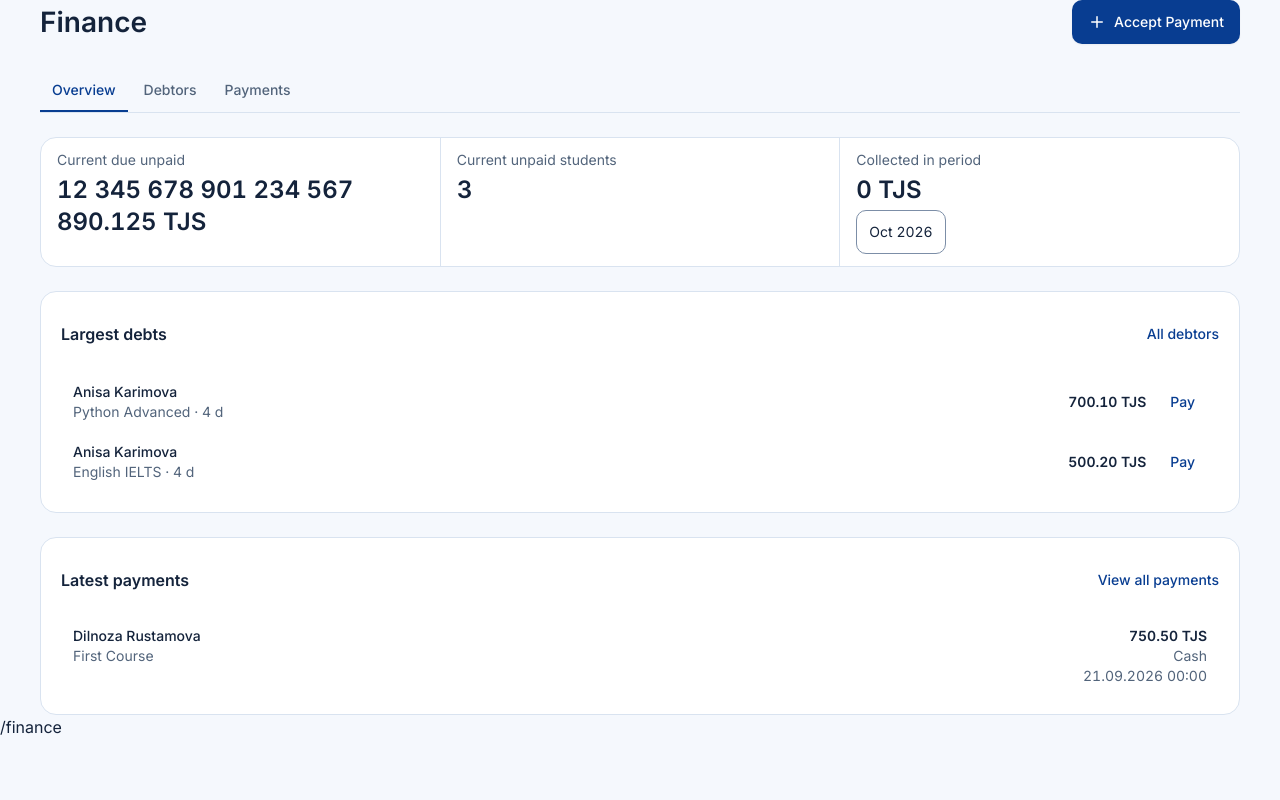
Scenario: Finance overview › rejects inverted and incomplete ranges before any query and keeps the URL
This screenshot has width=1280, height=800.
Expected: the text "0 TJS" is shown, top-left (856, 175), bottom-right (922, 204)
Click the button with aria-label "Collection period:" at (901, 232), box top-left (856, 210), bottom-right (946, 254)
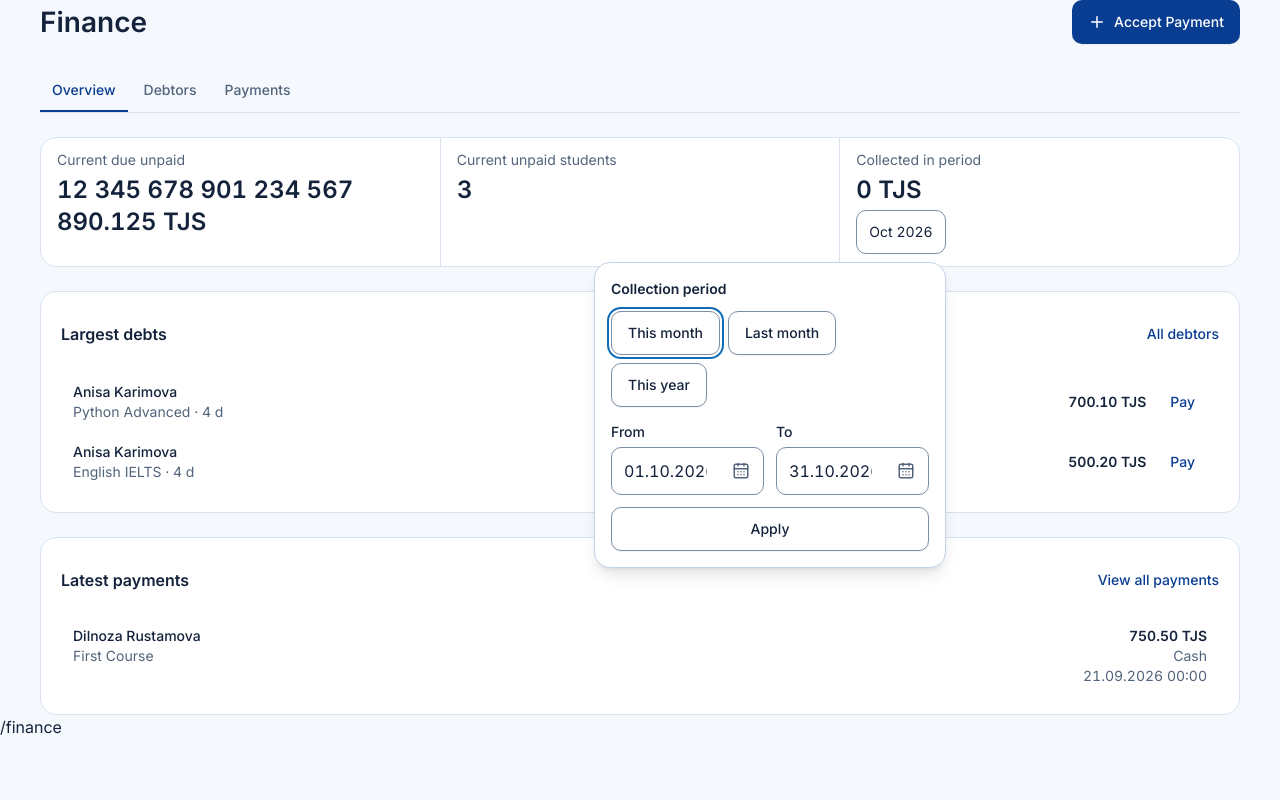
Expected: the field labelled "From" is shown
Clear the field labelled "From" at (666, 471), box top-left (612, 451), bottom-right (719, 491)
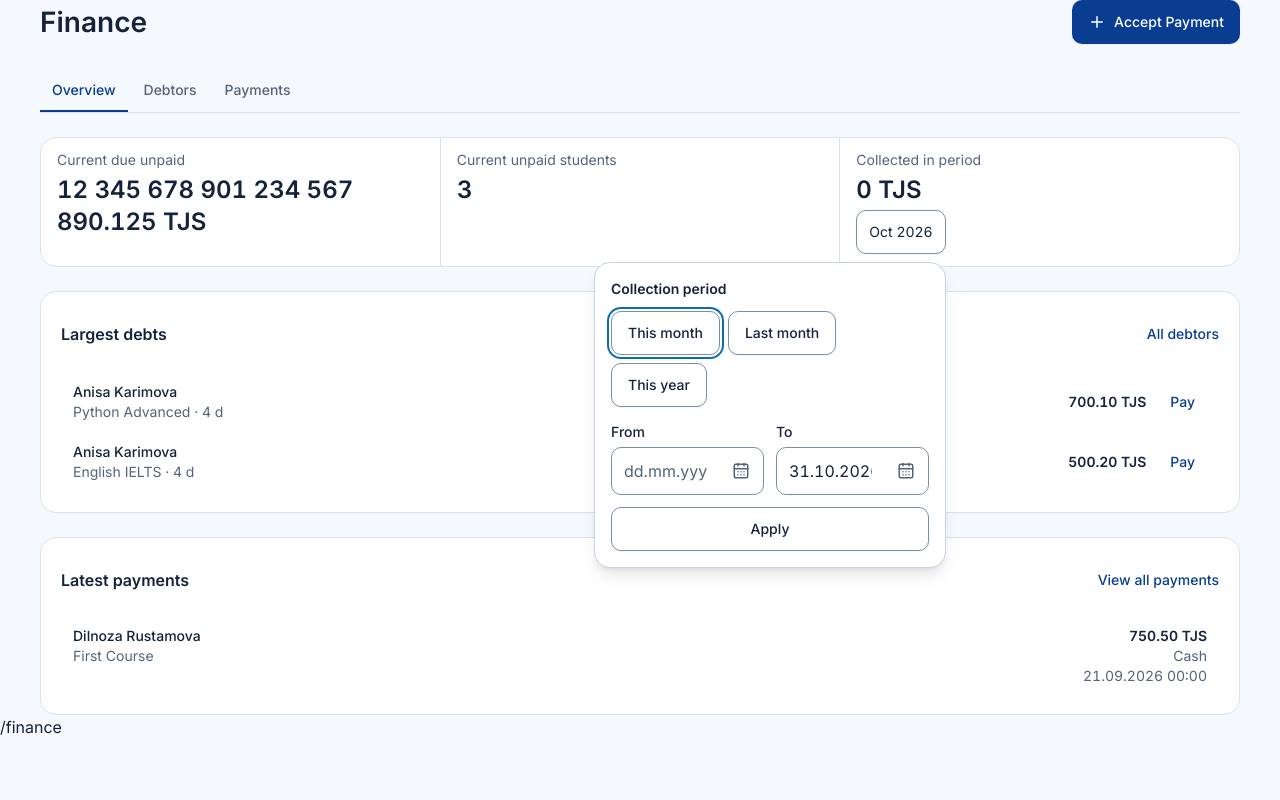
Click the button "Apply" at (770, 529), box top-left (611, 507), bottom-right (929, 551)
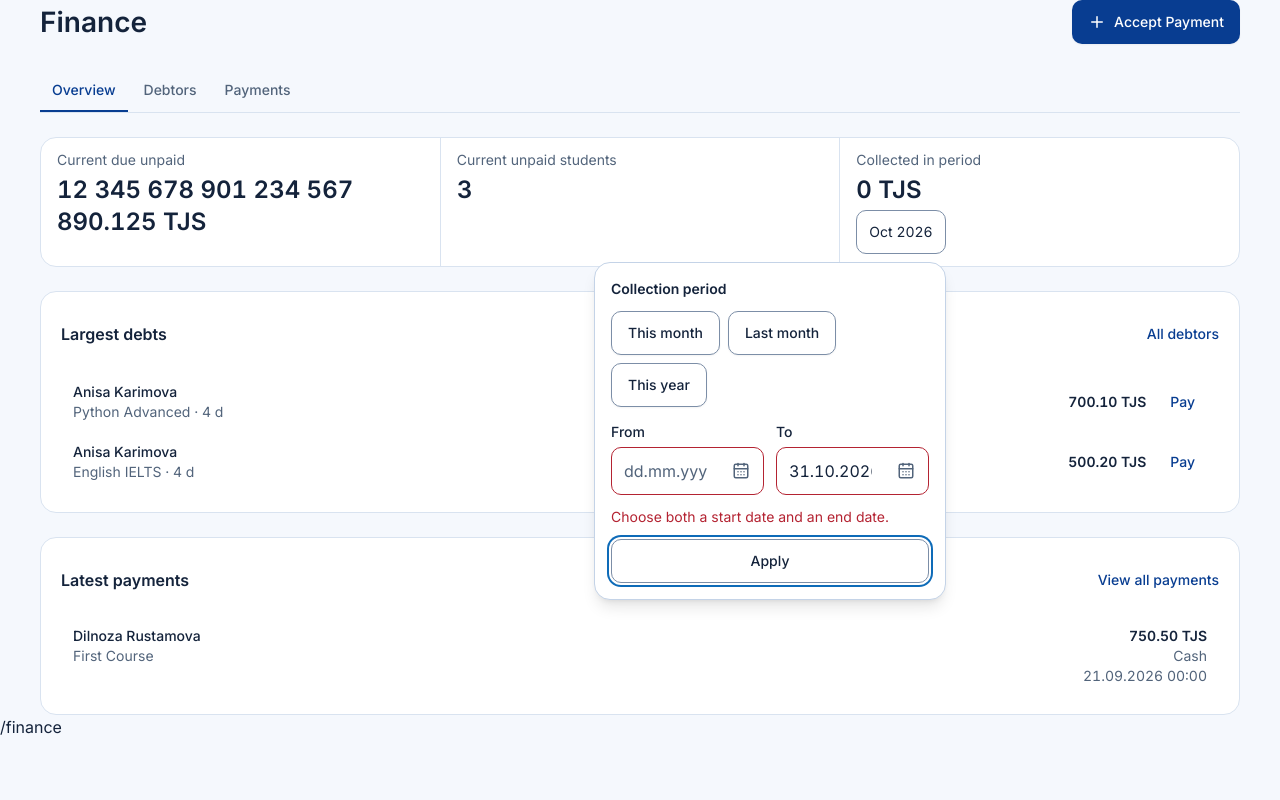
Expected: the message reads "Choose both a start date and an end date.", top-left (611, 508), bottom-right (889, 525)
Type "20.10.2026" into the field labelled "From" at (666, 471), box top-left (612, 451), bottom-right (719, 491)
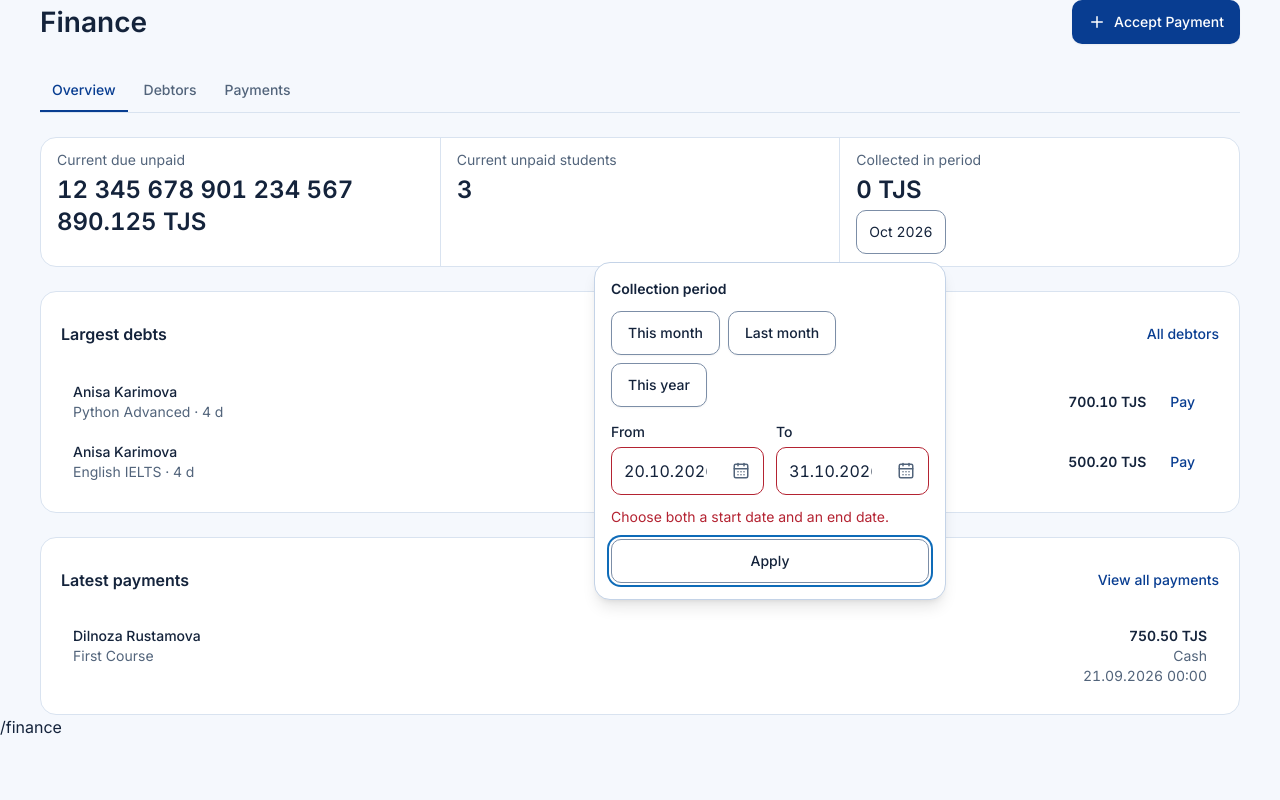
Replace the text in the field labelled "To" with "01.10.2026" at (830, 471), box top-left (777, 451), bottom-right (884, 491)
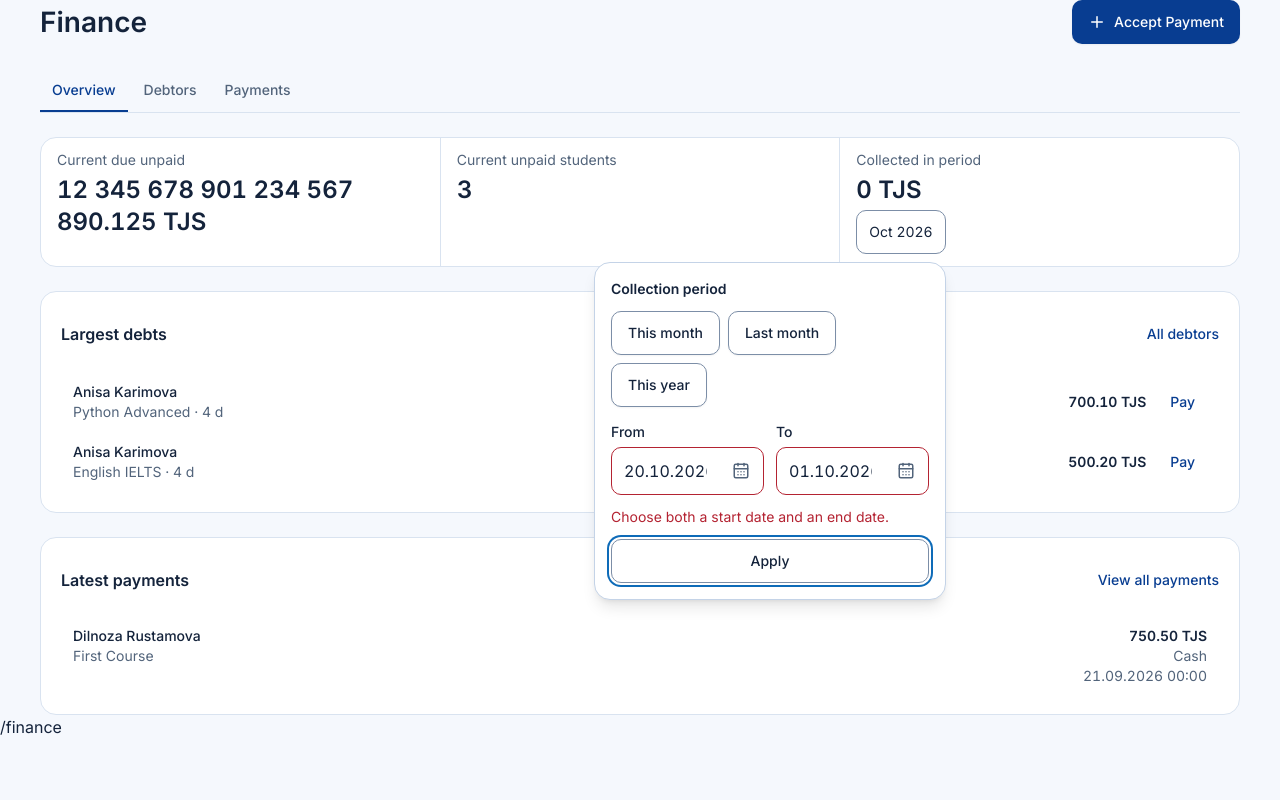
Click the button "Apply" at (770, 561), box top-left (611, 539), bottom-right (929, 583)
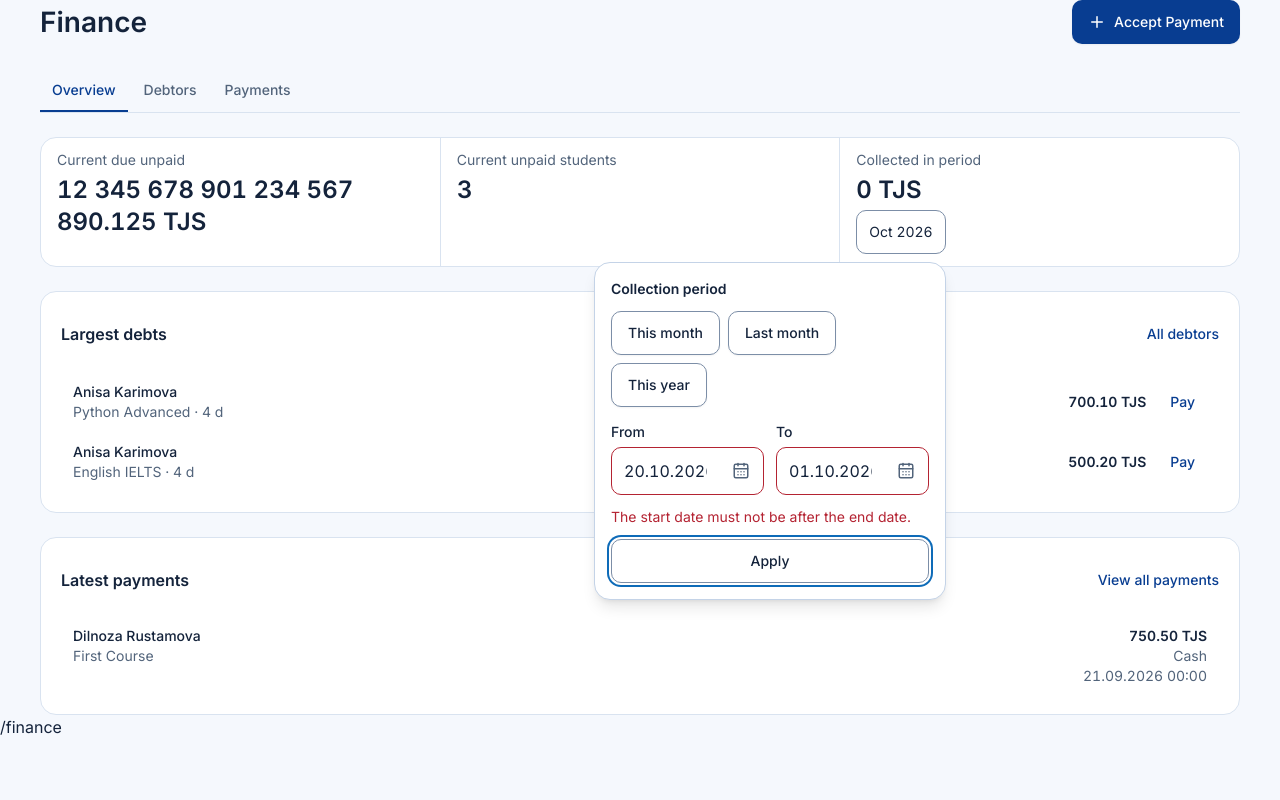
Expected: the text with test id "location" reads "/finance", top-left (0, 717), bottom-right (62, 737)
Expected: the message reads "The start date must not be after the end date.", top-left (611, 508), bottom-right (911, 525)
